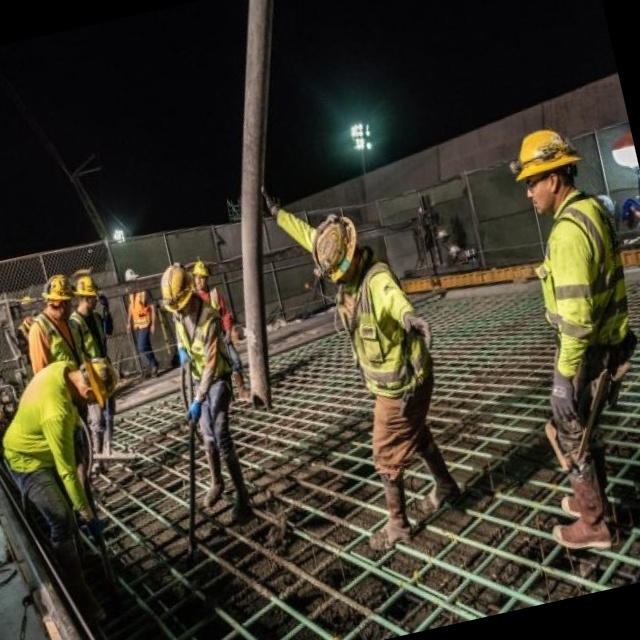Con_Casco: (506, 123, 581, 204), (152, 259, 200, 322)
Con_Chaleco: (520, 195, 640, 364), (328, 260, 435, 402)
